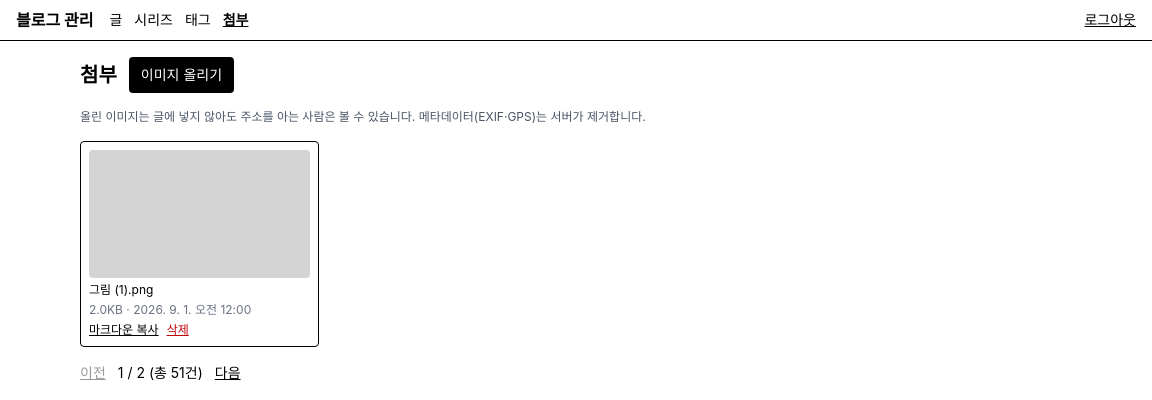
it: 첨부 › 마지막 쪽에서 삭제하면 다음 조회 결과에 맞춰 첫 쪽으로 돌아간다
The image size is (1152, 400).
Click the button "다음". click: click(228, 373)
box: [215, 363, 241, 383]
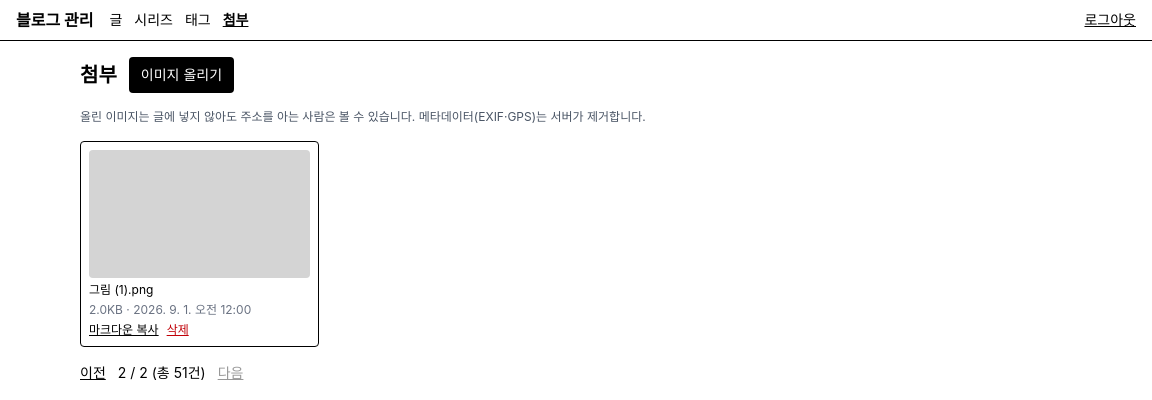
Result: the text "2 / 2 (총 51건)" is shown at [118, 363, 206, 383]
Click the button "삭제". click: click(178, 330)
box: [167, 322, 189, 338]
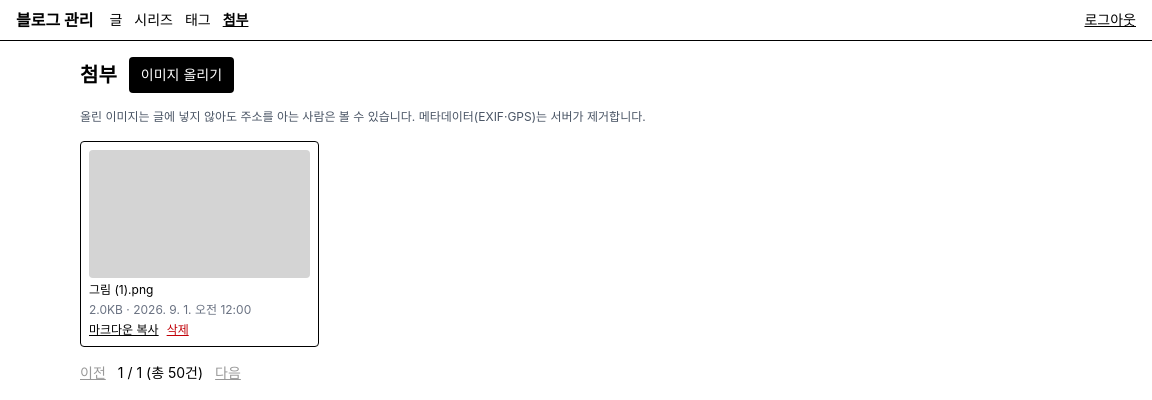
Result: the text "1 / 1 (총 50건)" is shown at [118, 363, 203, 383]
